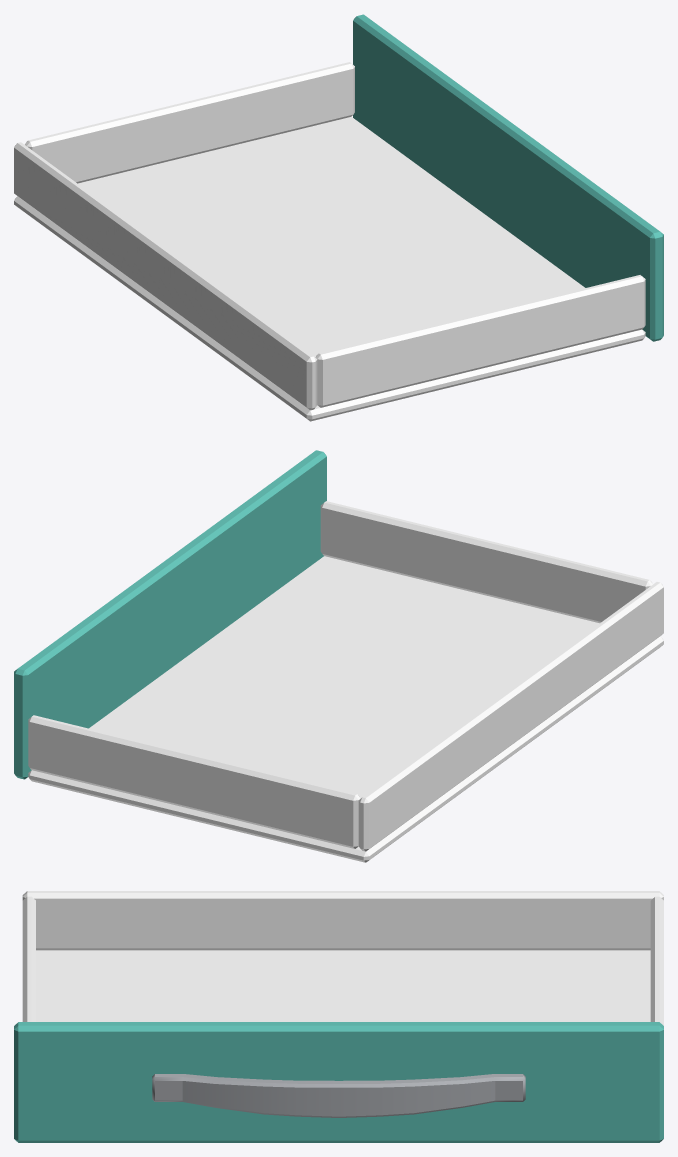
Rendered from Chest_box.fbx.
The picture shows the model from 3 angles, top to bottom: view 1: azimuth 30°, elevation 25°; view 2: azimuth 150°, elevation 25°; view 3: azimuth 270°, elevation 25°; orthographic projection. The views are drawn at different scales.
Visible parts, largest first — view 1: Chest_box; view 2: Chest_box; view 3: Chest_box.
Part boxes in pixels (bbox=[...]): Chest_box: bbox=[14, 14, 663, 421]; Chest_box: bbox=[14, 450, 663, 862]; Chest_box: bbox=[14, 891, 663, 1142].
Bounding box in the file's own units: 0.5455 × 0.1467 × 0.7378.
